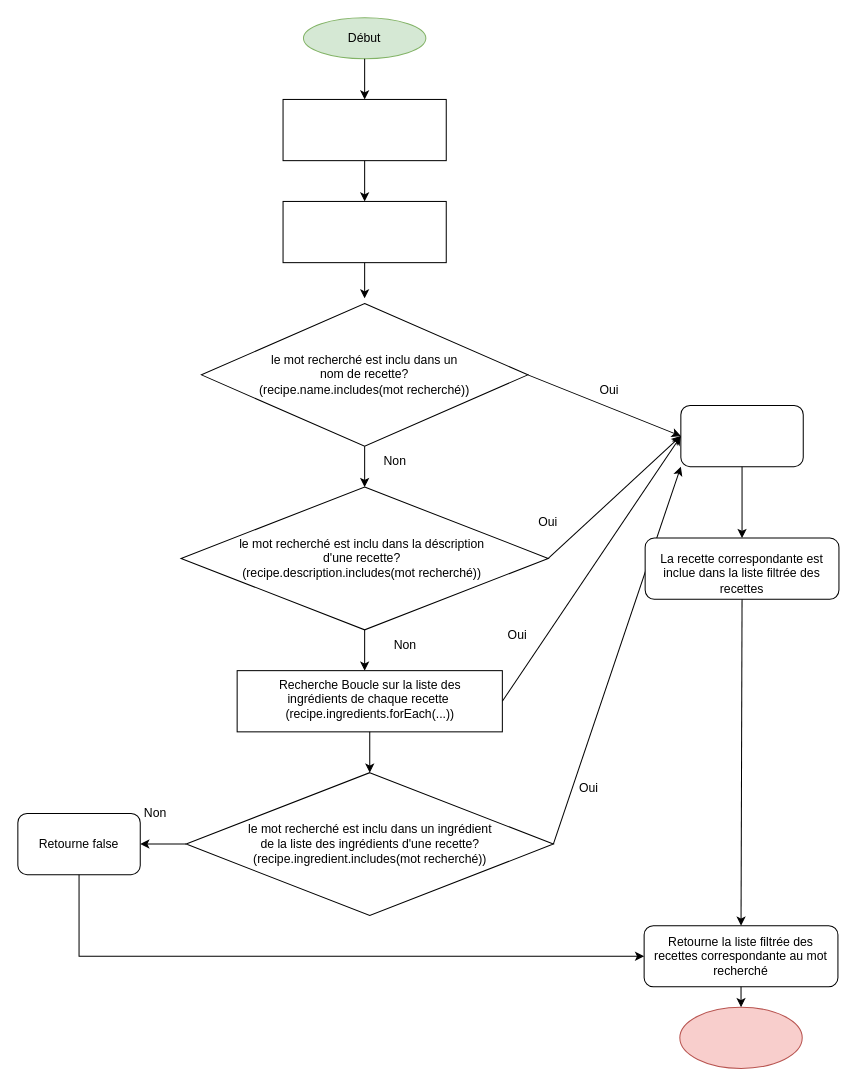
Image size: 857x1086. Some labels were removed from this diagram. Each missing label, with the box of its shape:
filter sur toute la liste de recettes: list.filter(..): (282, 200, 446, 263)
Fin: (679, 1006, 802, 1068)
Recherche de l'utilisateur: (282, 98, 446, 161)
Retourne true: (680, 404, 803, 467)
